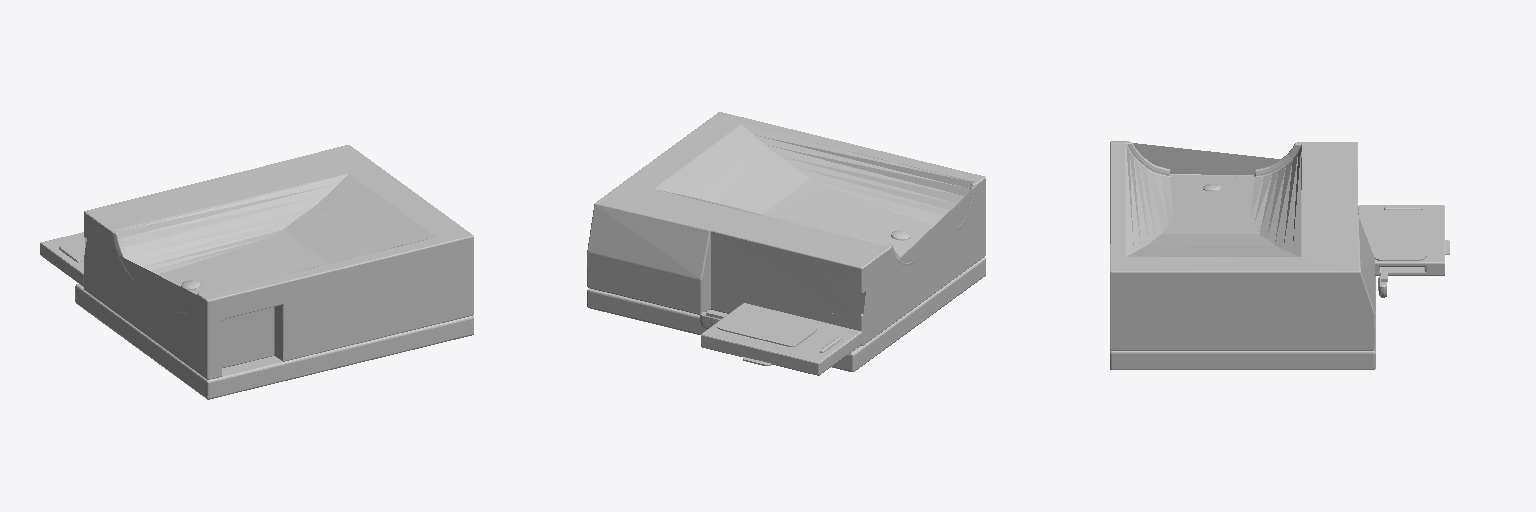
Rendered from DeviceDialysisReference.obj.
The picture shows the model from 3 angles: view 1: azimuth 30°, elevation 25°; view 2: azimuth 150°, elevation 25°; view 3: azimuth 270°, elevation 25°; orthographic projection.
Parts seen in each view (by area): view 1: DeviceBody DeviceBody polySurface18, DeviceBase, pCube21 CassetteCover2; view 2: DeviceBody DeviceBody polySurface18, pCube21 CassetteCover2, DeviceBase; view 3: DeviceBody DeviceBody polySurface18, pCube21 CassetteCover2, DeviceBase.
Boxes of the visible parts, box(x1,y1,x2,y2) form: DeviceBody DeviceBody polySurface18: box(84, 145, 473, 379); DeviceBase: box(75, 284, 473, 399); pCube21 CassetteCover2: box(40, 232, 84, 286); DeviceBody DeviceBody polySurface18: box(587, 112, 985, 345); pCube21 CassetteCover2: box(701, 303, 861, 375); DeviceBase: box(587, 257, 985, 371); DeviceBody DeviceBody polySurface18: box(1110, 141, 1374, 350); pCube21 CassetteCover2: box(1358, 205, 1449, 275); DeviceBase: box(1110, 276, 1375, 369).
Size of the model in its own units: 16.99 by 6.06 by 18.72.